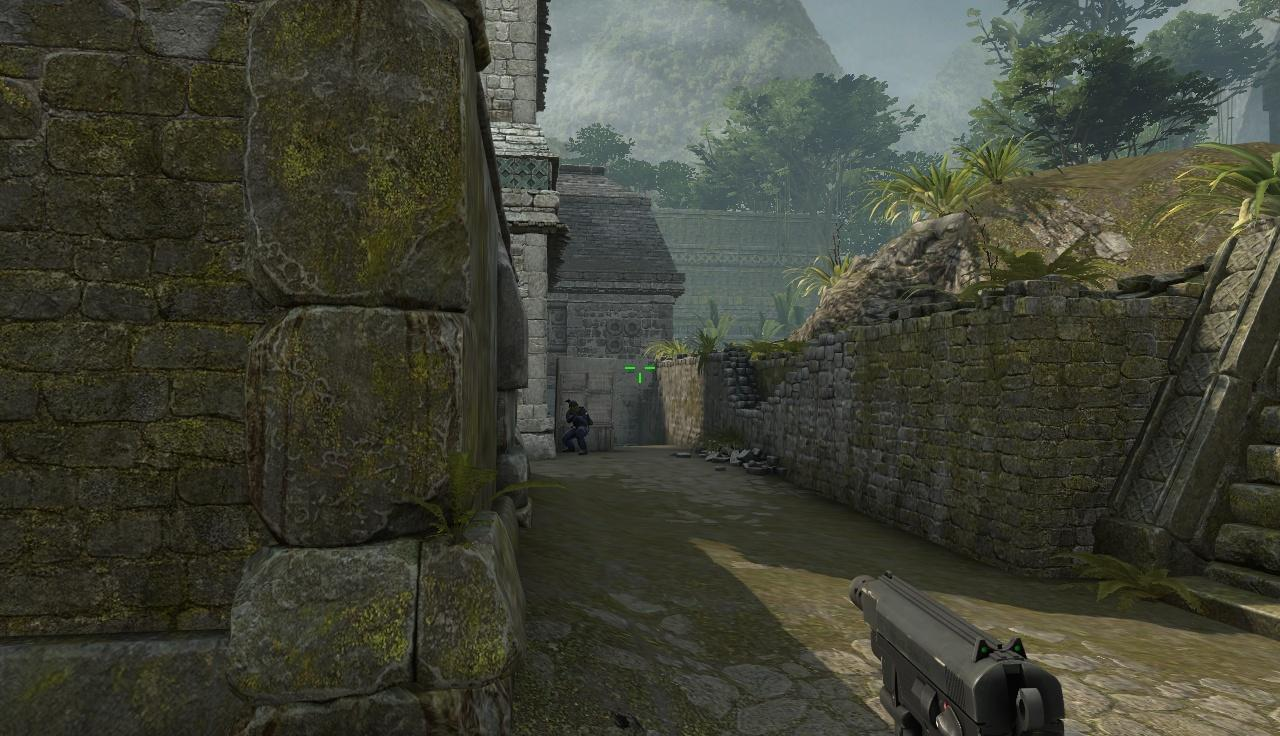ct: (562, 399, 591, 454)
cthead: (568, 399, 579, 413)
pistol: (840, 571, 1117, 736)
